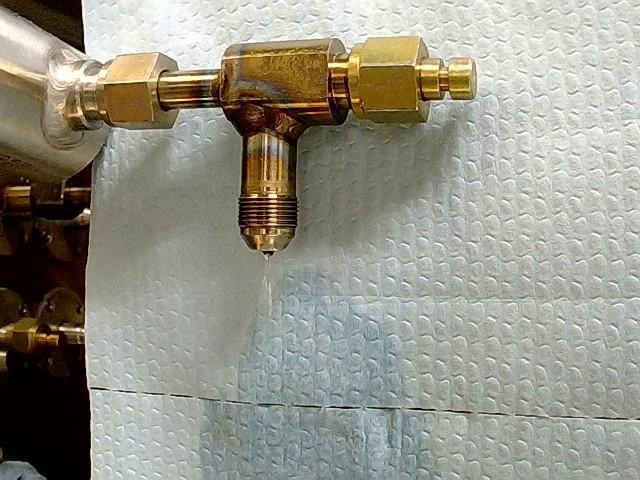water drop: (256, 250, 276, 318)
